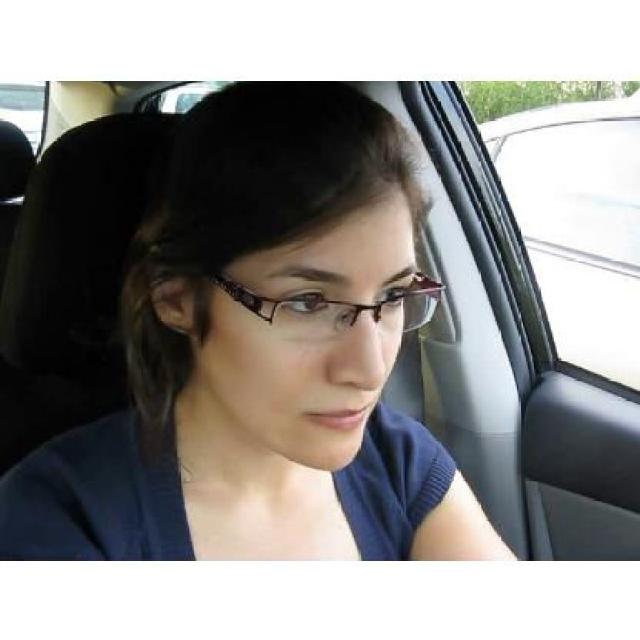attentif: (150, 80, 444, 474)
